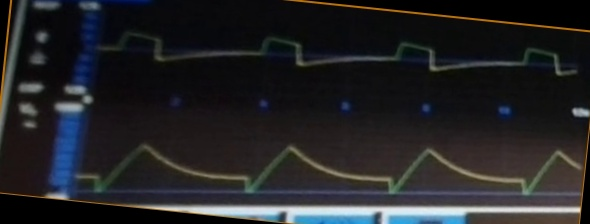Flow: (98, 29, 576, 87)
Leakage Volume: (78, 133, 578, 200)
